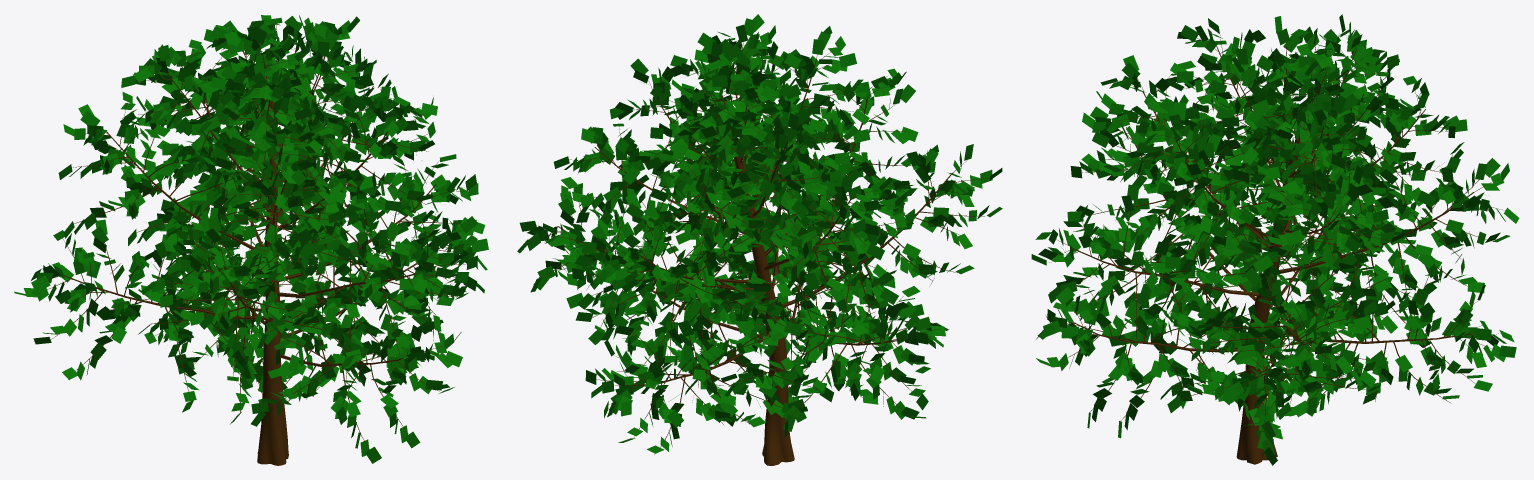
The model's file is Object_treeOak3.FBX.
3 views of the same model, side by side, from view 1: azimuth 30°, elevation 25°; view 2: azimuth 150°, elevation 25°; view 3: azimuth 270°, elevation 25° (orthographic). The views are drawn at different scales.
Visible parts, largest first — view 1: Foliage001; view 2: Foliage001; view 3: Foliage001.
Part boxes in pixels (box(x1,y1,x2,y2)): Foliage001: box(14, 15, 488, 465); Foliage001: box(517, 14, 1002, 465); Foliage001: box(1031, 14, 1519, 465).
Size of the model in its own units: 1204 by 1120 by 1134.
